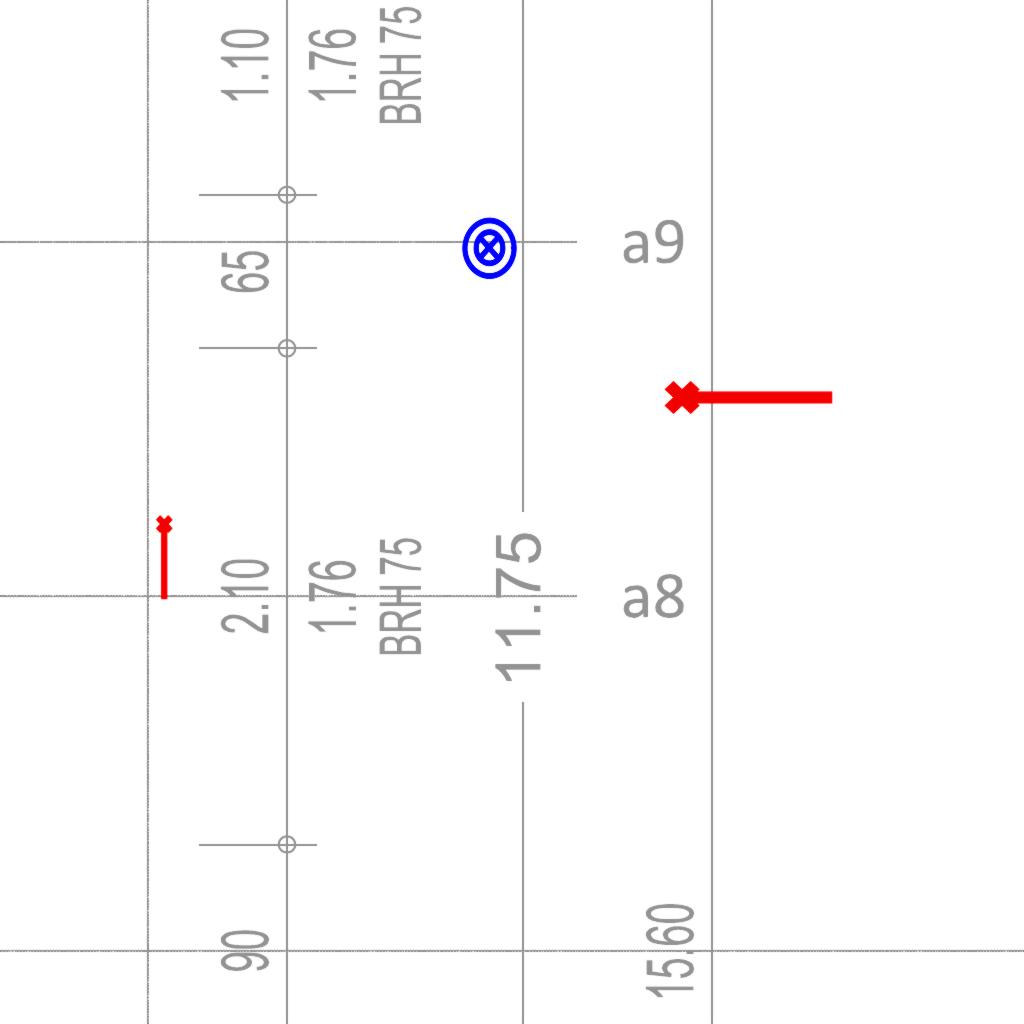ASR_Ansaugoeffnung: (662, 372, 838, 418), (154, 514, 177, 602)
Taster_beleuchtet: (456, 215, 522, 281)
